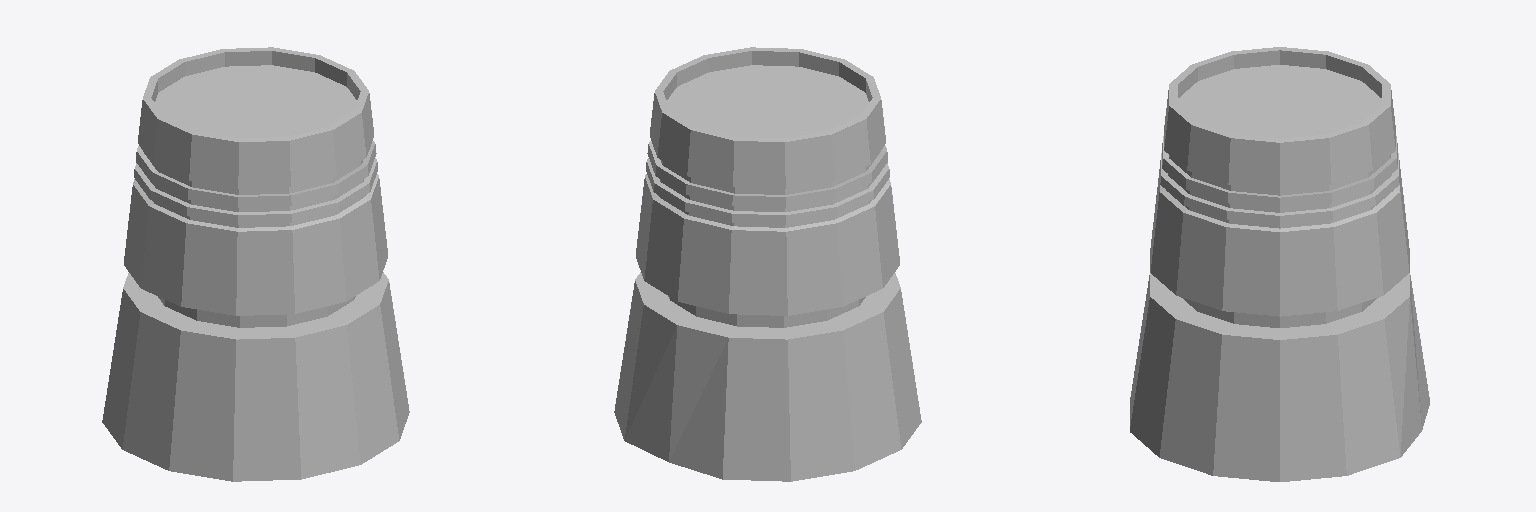
Rendered from turret.obj.
3 renders of one model, left to right at view 1: azimuth 30°, elevation 25°; view 2: azimuth 150°, elevation 25°; view 3: azimuth 270°, elevation 25°, orthographic.
Visible parts, largest first — view 1: polySurface7 polySurface5 Turret_02; view 2: polySurface7 polySurface5 Turret_02; view 3: polySurface7 polySurface5 Turret_02.
Part boxes in pixels (left/top/right/bottom): polySurface7 polySurface5 Turret_02: left=102, top=47, right=409, bottom=481; polySurface7 polySurface5 Turret_02: left=614, top=47, right=921, bottom=481; polySurface7 polySurface5 Turret_02: left=1130, top=47, right=1429, bottom=481.
Size of the model in its own units: 0.6739 by 0.7778 by 0.657.